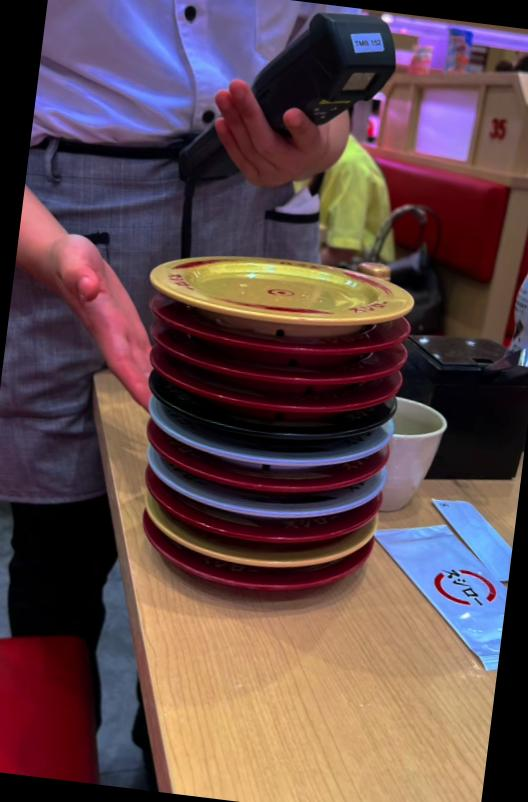Janback: (164, 408, 379, 459)
Jangold: (154, 243, 411, 329), (170, 533, 326, 576)
Janred: (173, 348, 394, 400), (166, 323, 399, 369), (172, 459, 363, 511), (177, 379, 372, 422), (174, 509, 355, 554), (181, 562, 348, 605)
Janwhite: (164, 485, 345, 528), (179, 438, 350, 475)
